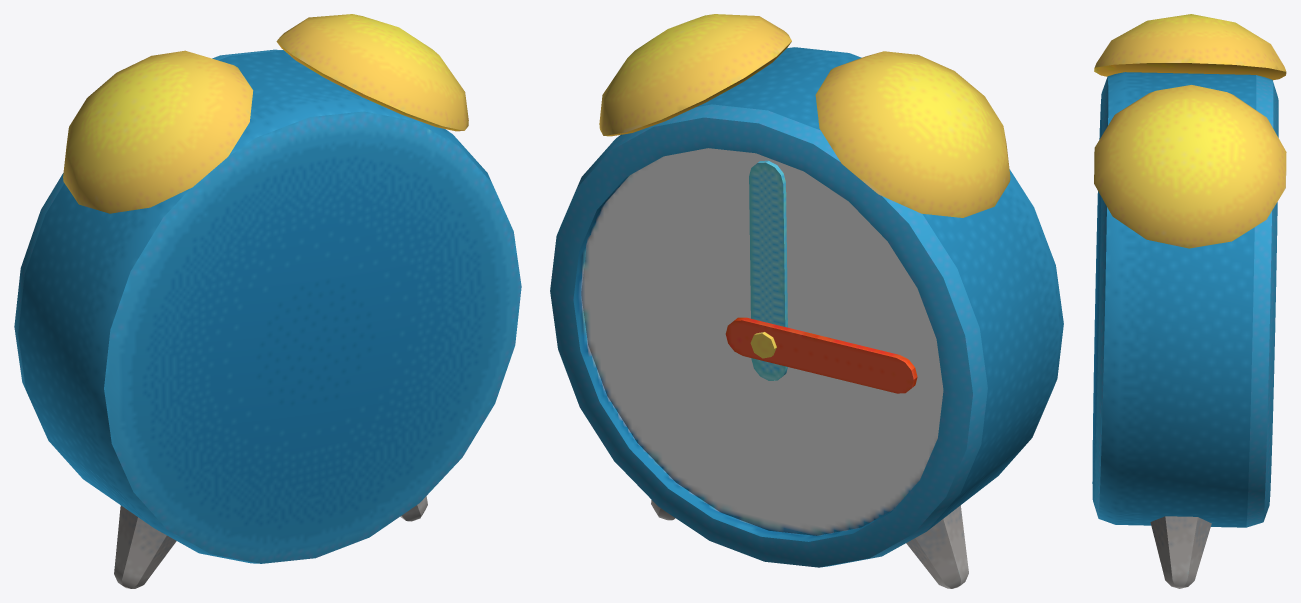
Rendered from clock.gltf.
3 renders of one model, left to right at view 1: azimuth 30°, elevation 25°; view 2: azimuth 150°, elevation 25°; view 3: azimuth 270°, elevation 25°, orthographic. The views are drawn at different scales.
Visible parts, largest first — view 1: Clock; view 2: Clock; view 3: Clock.
Boxes of the visible parts, bbox=[...] form: Clock: bbox=[14, 14, 521, 588]; Clock: bbox=[550, 14, 1063, 588]; Clock: bbox=[1092, 14, 1286, 588].
Bounding box in the file's own units: 0.7095 × 0.7975 × 0.3021.
Materials: 1 (1 with a texture image).
